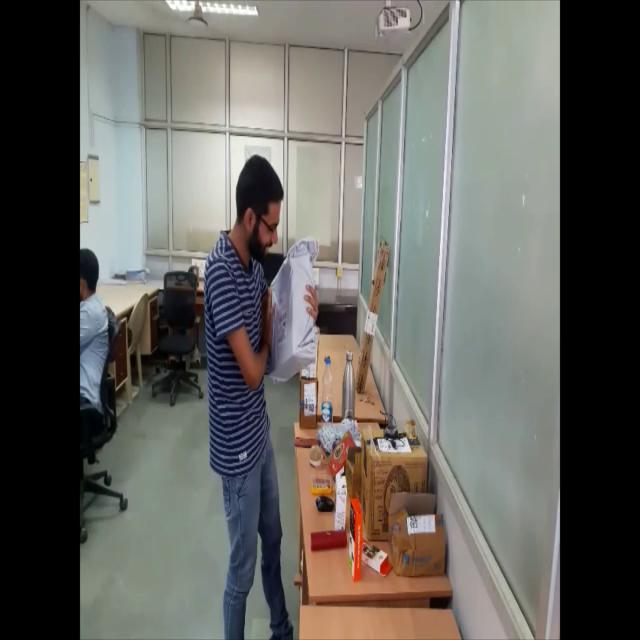normal: (200, 146, 324, 639)
